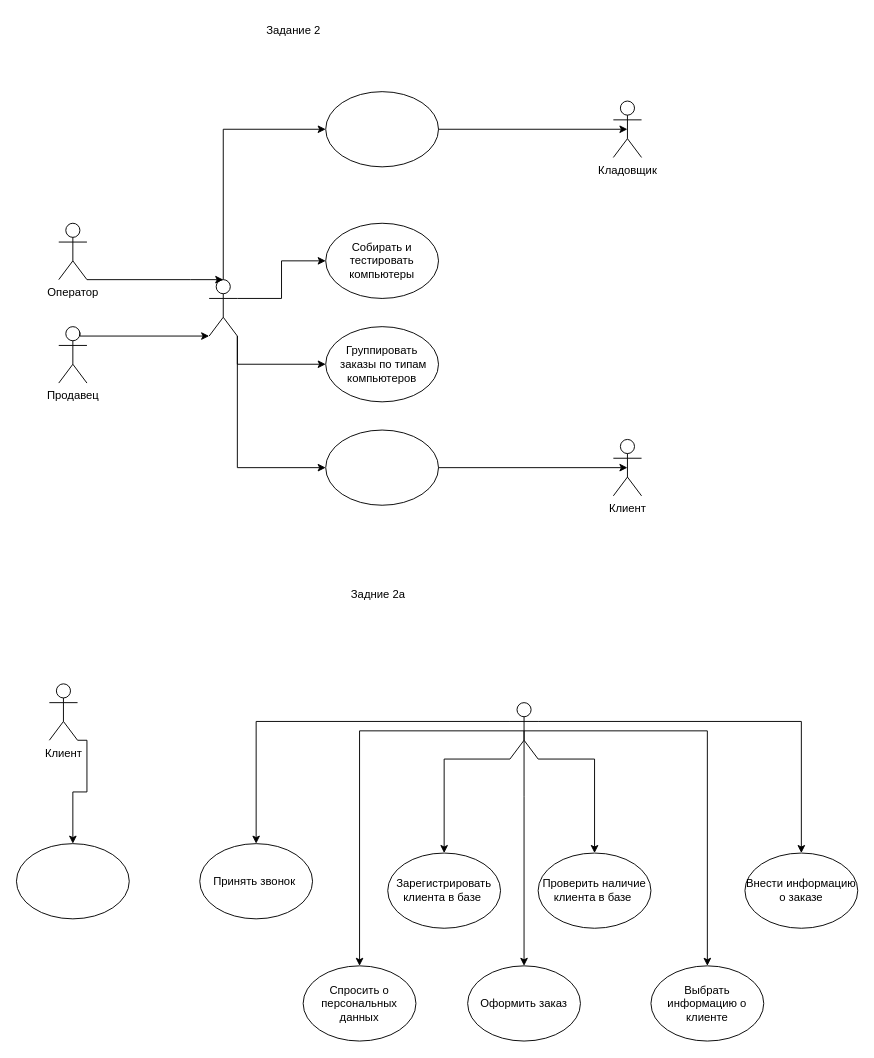
The diagram is 874 pixels wide and 1058 high, and some of its shapes have lost their labels. The shapes that lost their labels are listed below. From the top down, each one's box as (x1, y1, x2, y2) in pixels, then its label:
(325, 91, 439, 167): Упаковывать заказы согласно заказам
(208, 279, 237, 336): Сотрудник
(325, 429, 439, 505): Принять заказы
(509, 702, 538, 759): Опреатор
(16, 843, 129, 919): Позвонить
